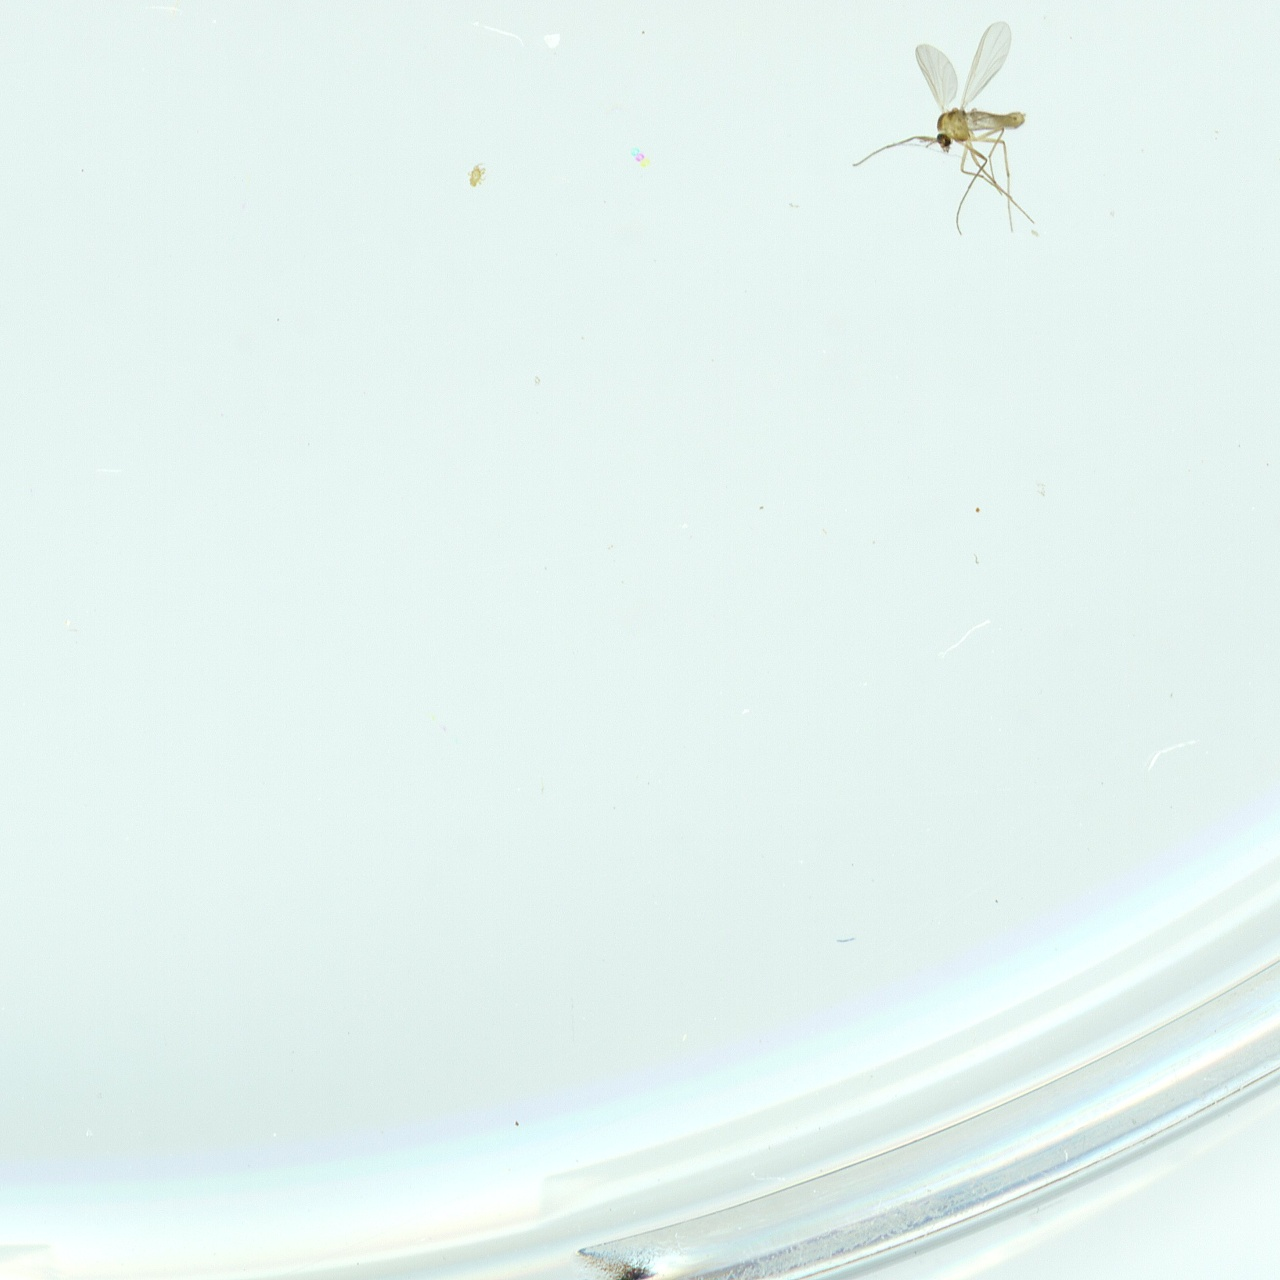arthropod: (852, 22, 1035, 236), (467, 163, 488, 189)
